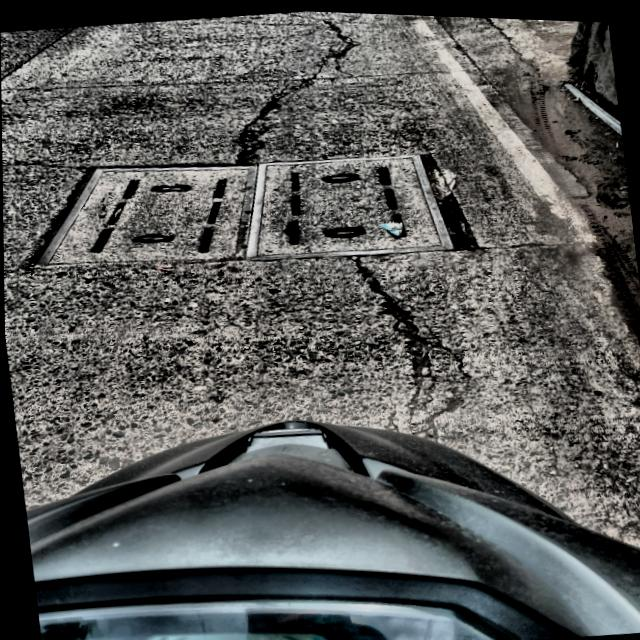cracks: (233, 20, 354, 165)
